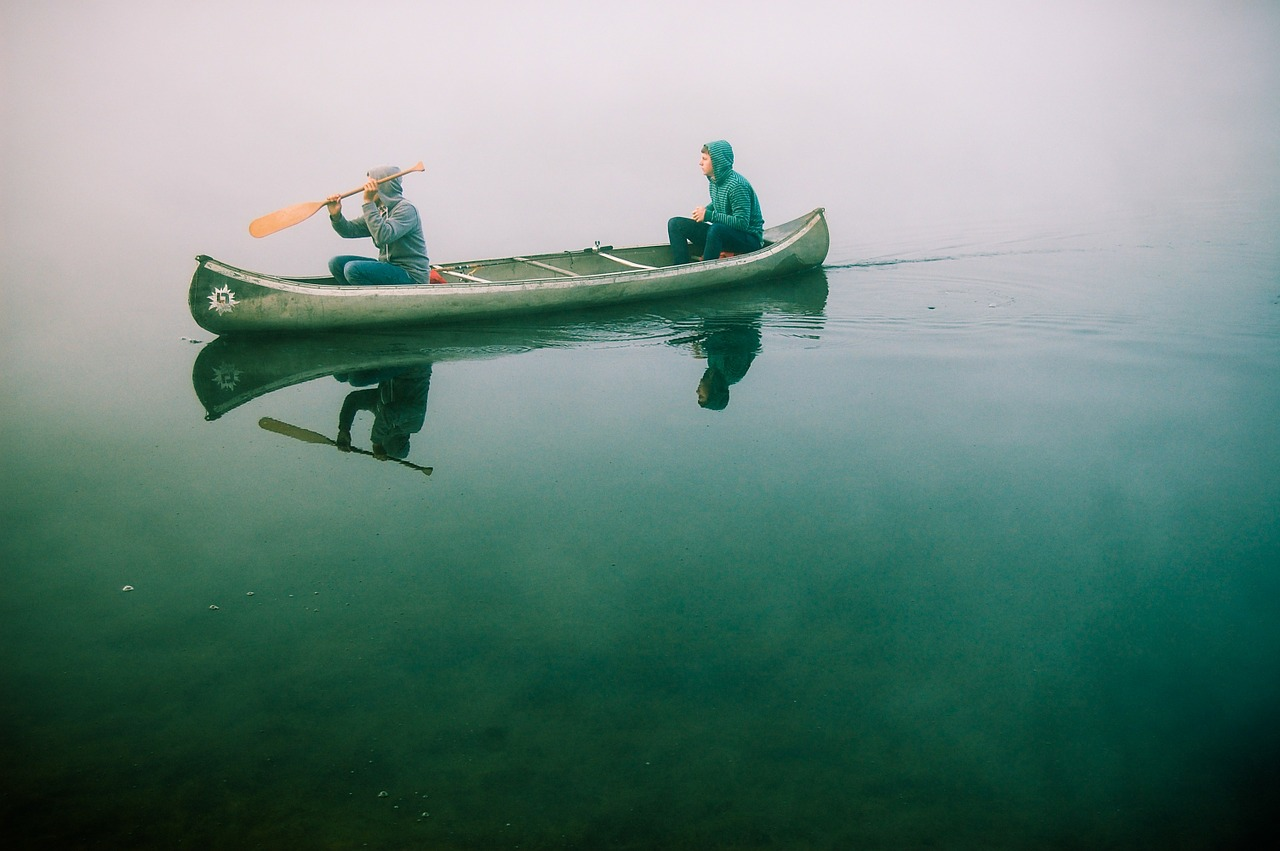kayak: (189, 207, 831, 339)
